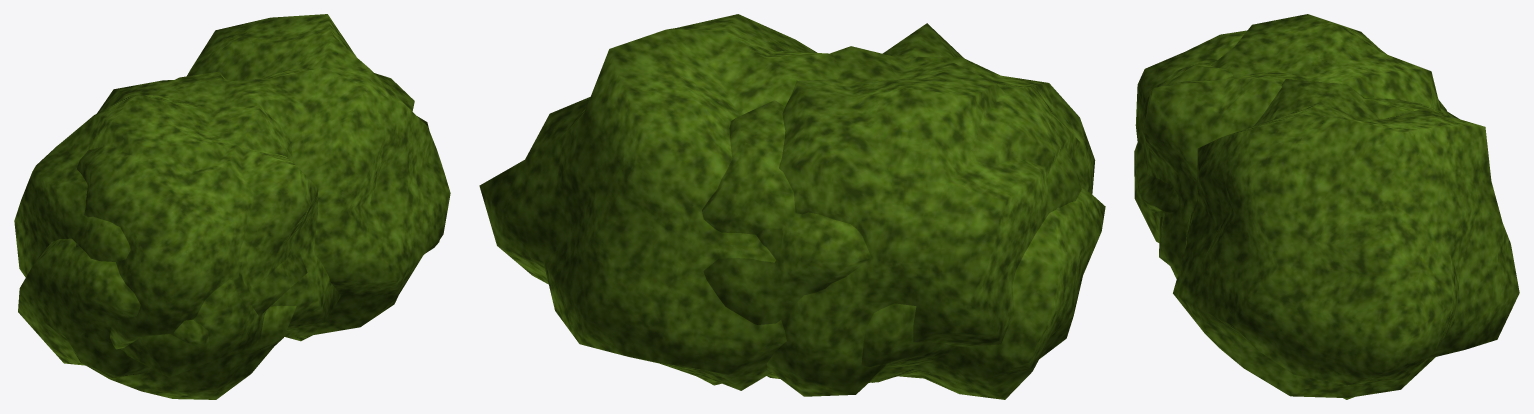
The model's file is obj_bush.glb.
3 views of the same model, side by side, from view 1: azimuth 30°, elevation 25°; view 2: azimuth 150°, elevation 25°; view 3: azimuth 270°, elevation 25° (orthographic). The views are drawn at different scales.
Parts seen in each view (by area): view 1: bush_body; view 2: bush_body; view 3: bush_body.
Part boxes in pixels (x1=…): bush_body: x1=14, y1=14, x2=450, y2=399; bush_body: x1=479, y1=14, x2=1105, y2=399; bush_body: x1=1134, y1=14, x2=1519, y2=399.
Size of the model in its own units: 1.62 by 1.01 by 1.17.
1 material, 1 textured.
